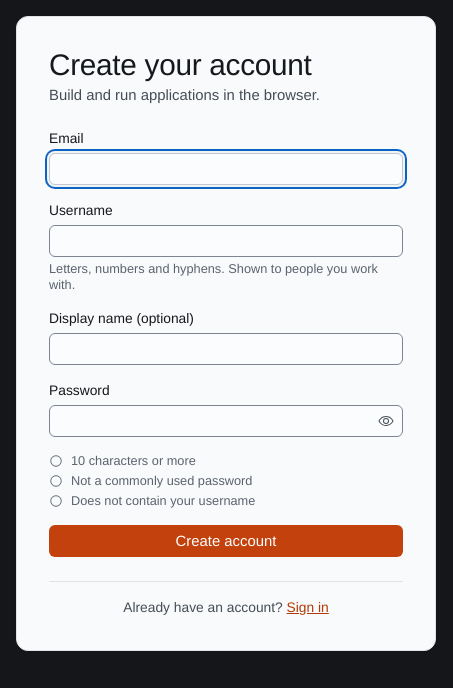
Test: RegisterPage › rejects a short password before contacting the server
This screenshot has width=453, height=688.
Step 1. Type "ada@example.test" into the field labelled "Email" → (226, 169), box [50,154,402,184]
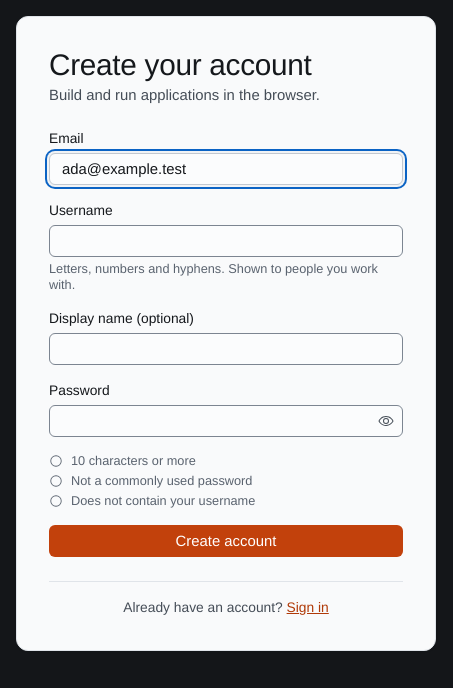
Step 2. Type "ada-lovelace" into the field labelled "Username" → (226, 241), box [50,226,402,256]
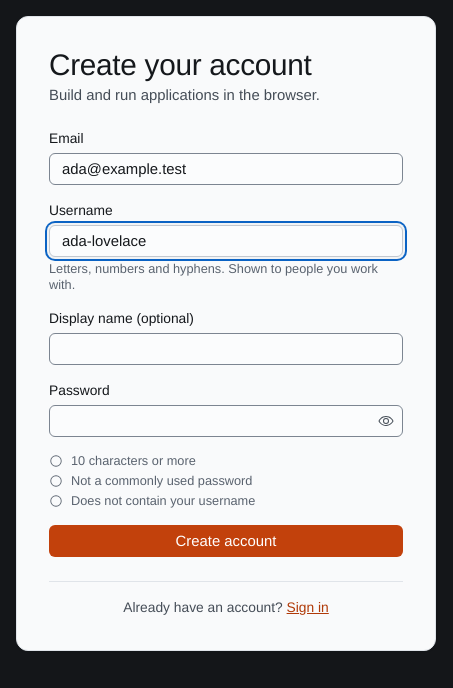
Step 3. Type "short" into the password field labelled "Password" → (212, 421), box [50,406,374,436]
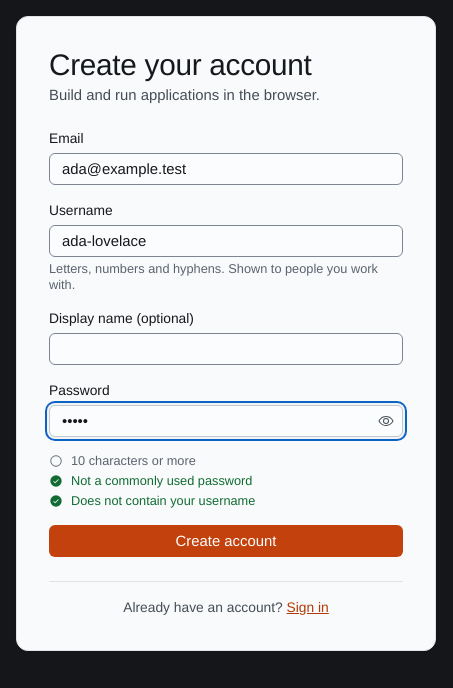
Step 4. Click the button "Create account" → (226, 541), box [49,525,403,557]
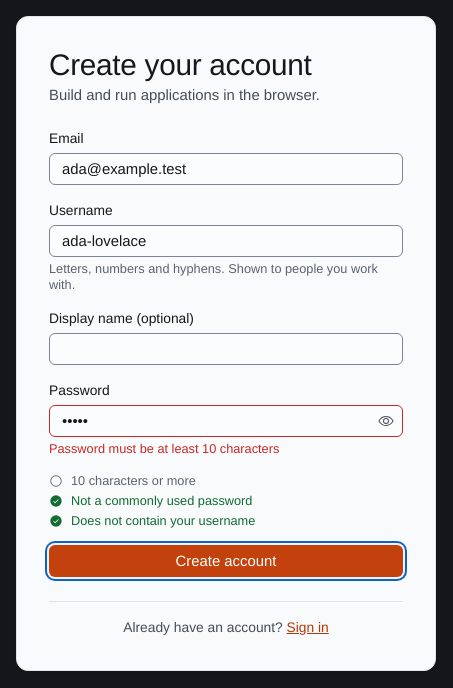
Result: the text "Password must be at least 10 characters" is shown at [49,441,279,457]
